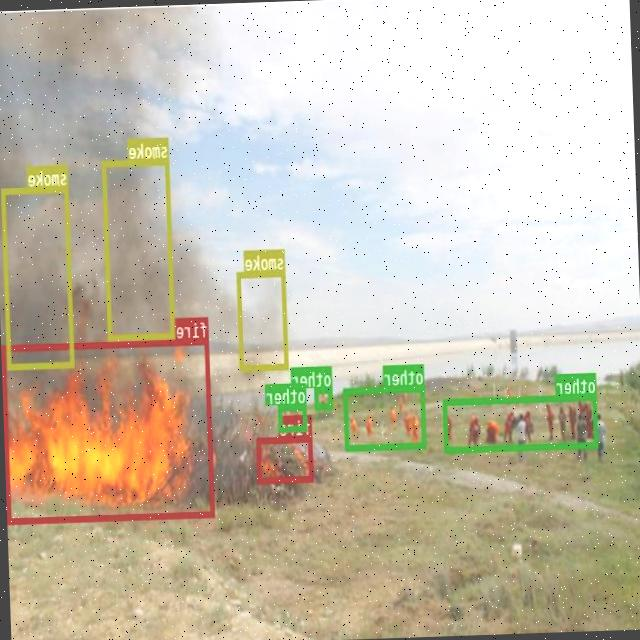fire: (2, 337, 215, 522), (257, 435, 314, 482)
smoke: (2, 185, 75, 368), (103, 157, 175, 339), (238, 269, 288, 369)
